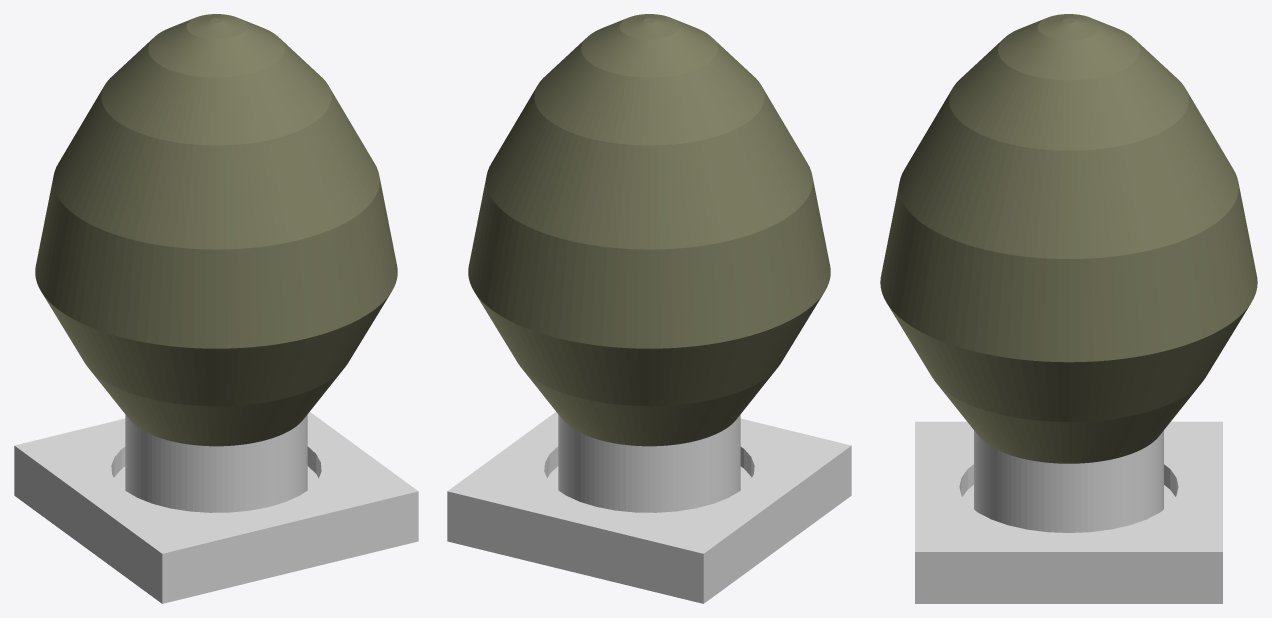
The model's file is Bulb.fbx.
The picture shows the model from 3 angles, left to right: view 1: azimuth 30°, elevation 25°; view 2: azimuth 150°, elevation 25°; view 3: azimuth 270°, elevation 25°; orthographic projection. The views are drawn at different scales.
Visible parts, largest first — view 1: Cylinder.001, Cube; view 2: Cylinder.001, Cube; view 3: Cylinder.001, Cube.
Part boxes in pixels (box(x1,y1,x2,y2)): Cylinder.001: box(35, 14, 397, 512); Cube: box(14, 412, 418, 603); Cylinder.001: box(468, 14, 830, 512); Cube: box(447, 412, 851, 603); Cylinder.001: box(880, 14, 1257, 532); Cube: box(915, 421, 1222, 603).
Size of the model in its own units: 245 by 371 by 245.
